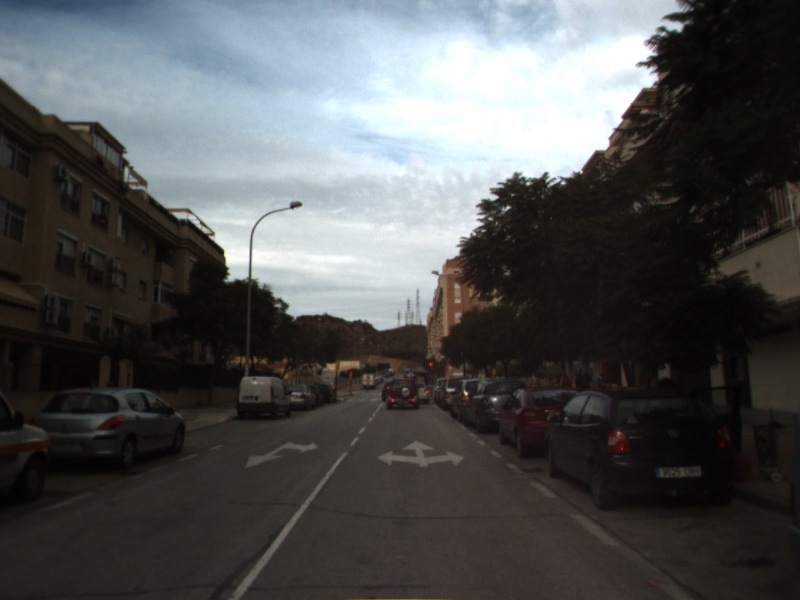STRAIGHT_LEFT_RIGHT: (375, 438, 467, 469)
